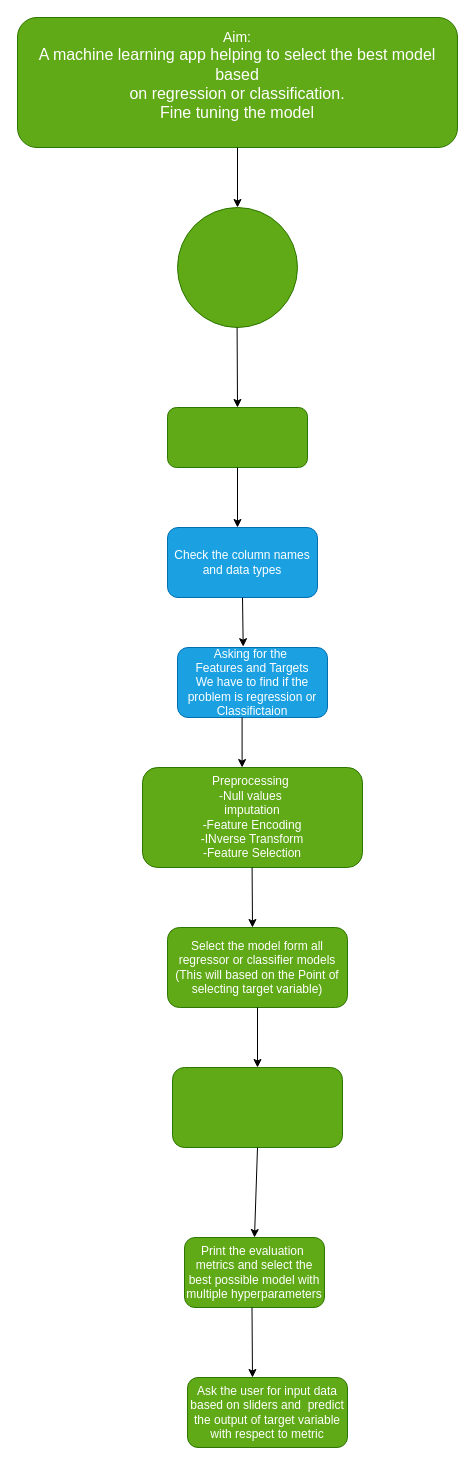
Image size: 475x1465. Some labels were removed from this diagram. Each missing label, with the box of its shape:
Add the evalution metrics based on the problem: (172, 1066, 342, 1148)
Example Data Button: (166, 406, 308, 468)
Load the Data or Upload tech data: (176, 206, 298, 328)
